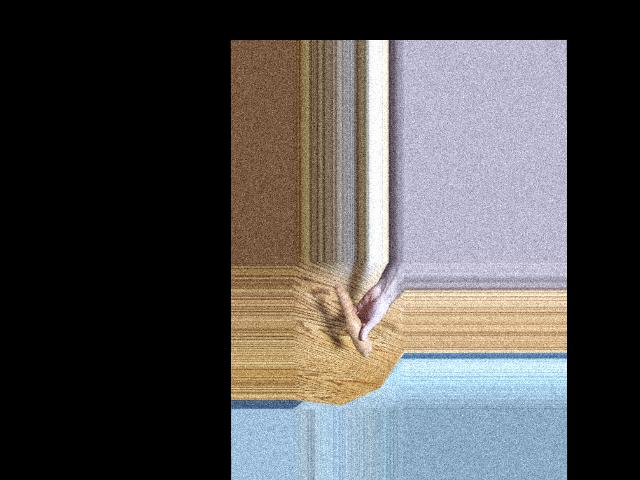sweet_potato: (339, 283, 363, 359)
